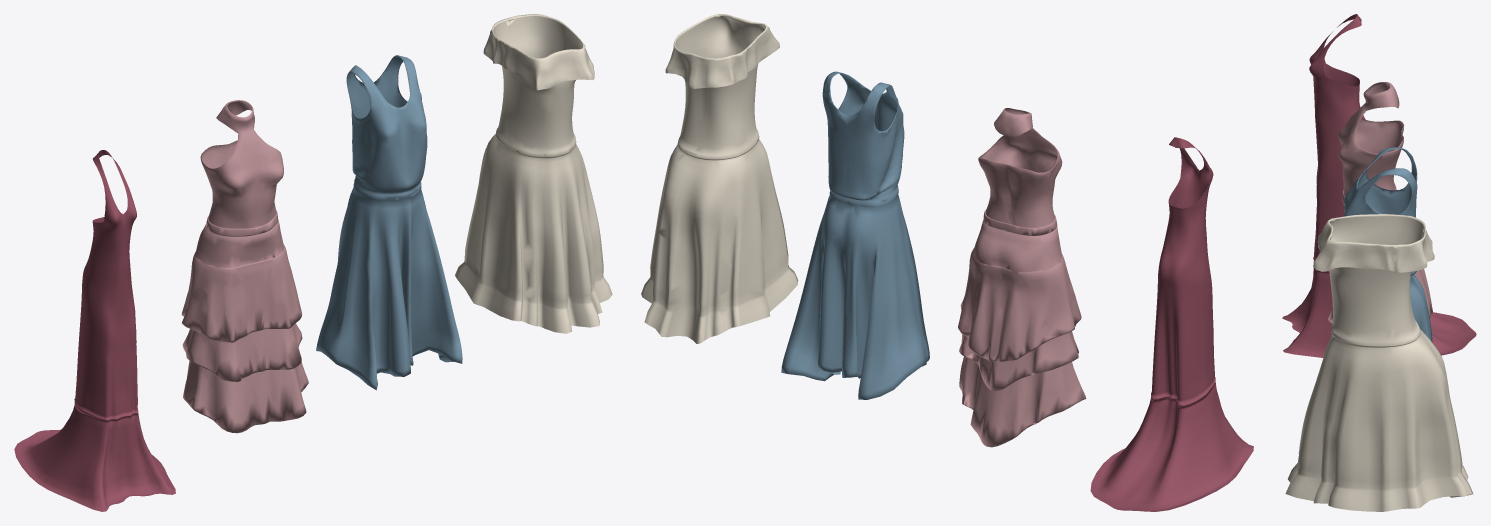
The model's file is hebe-wardrobe-outfits.glb.
3 views of the same model, side by side, from view 1: azimuth 30°, elevation 25°; view 2: azimuth 150°, elevation 25°; view 3: azimuth 270°, elevation 25° (orthographic). The views are drawn at different scales.
Visible parts, largest first — view 1: Hebe gown 0; view 2: Hebe gown 0; view 3: Hebe gown 0.
Boxes of the visible parts, x1,y1,x2,y2 form: Hebe gown 0: (14, 14, 612, 511); Hebe gown 0: (641, 14, 1253, 511); Hebe gown 0: (1282, 14, 1476, 511).
Bounding box in the file's own units: 3.4 × 1.9 × 1.04.
